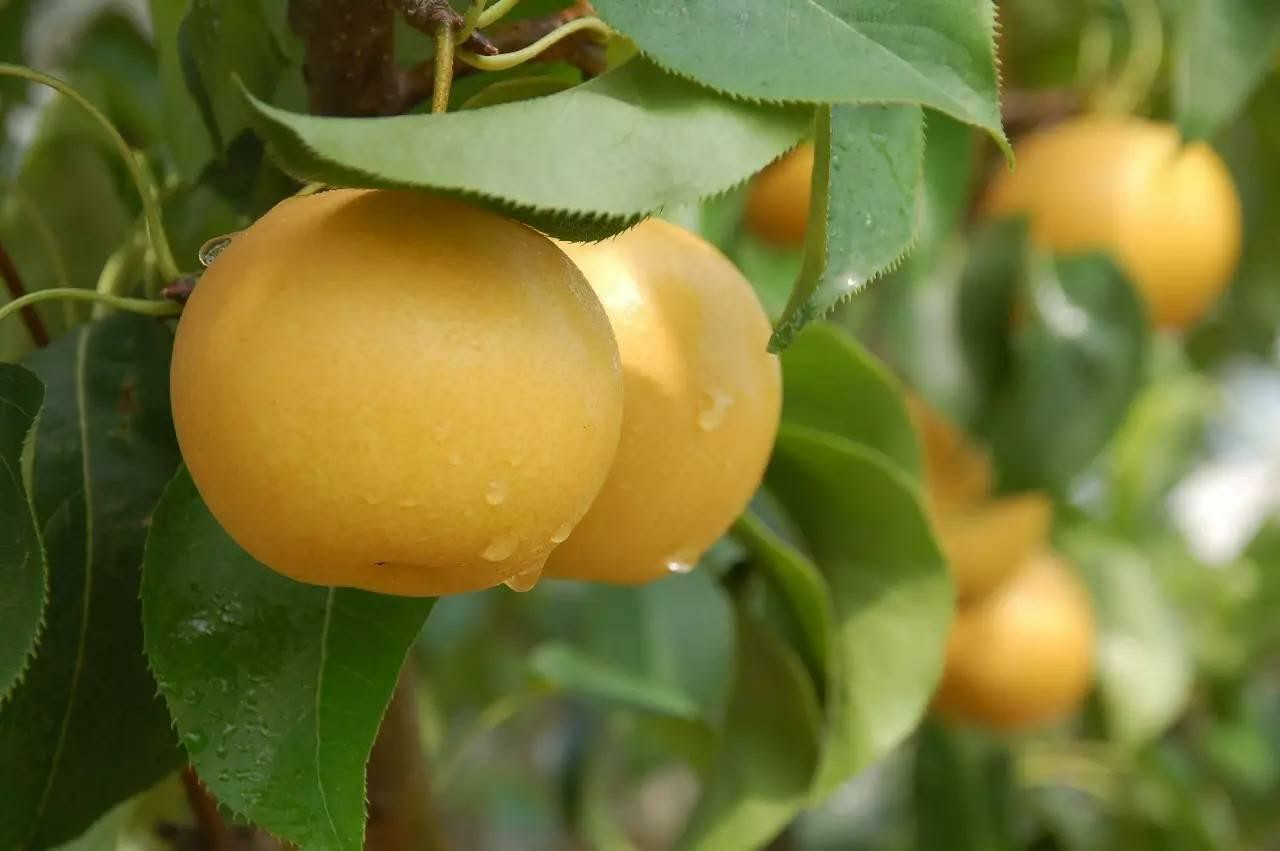pear: (170, 183, 620, 599), (430, 195, 785, 586), (973, 116, 1238, 337)
